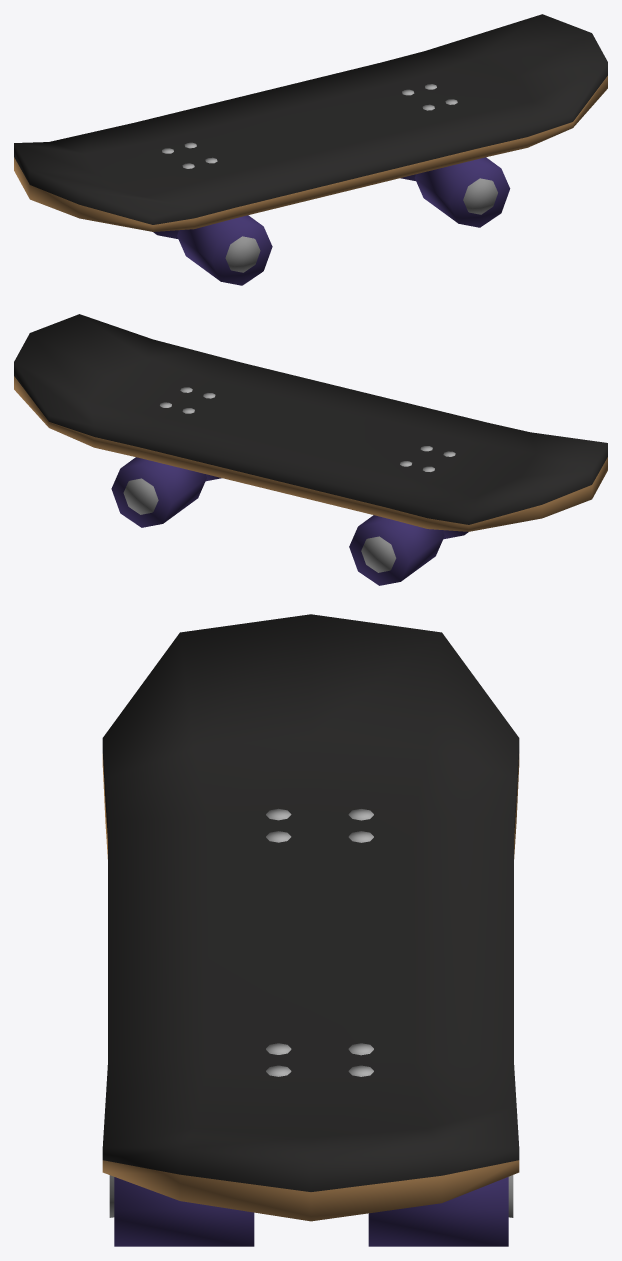
File: props_skateboard.fbx
3 renders of one model, top to bottom at view 1: azimuth 30°, elevation 25°; view 2: azimuth 150°, elevation 25°; view 3: azimuth 270°, elevation 25°, orthographic. The views are drawn at different scales.
Parts seen in each view (by area): view 1: Cylinder.002; view 2: Cylinder.002; view 3: Cylinder.002.
Part boxes in pixels (x1=…): Cylinder.002: x1=14, y1=14, x2=607, y2=285; Cylinder.002: x1=14, y1=314, x2=607, y2=585; Cylinder.002: x1=102, y1=614, x2=519, y2=1246.
Size of the model in its own units: 145 by 29.34 by 46.38.
